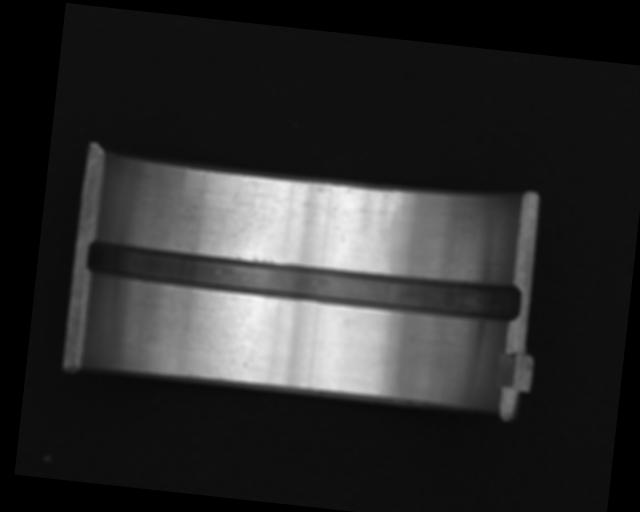gap: (83, 234, 525, 325)
